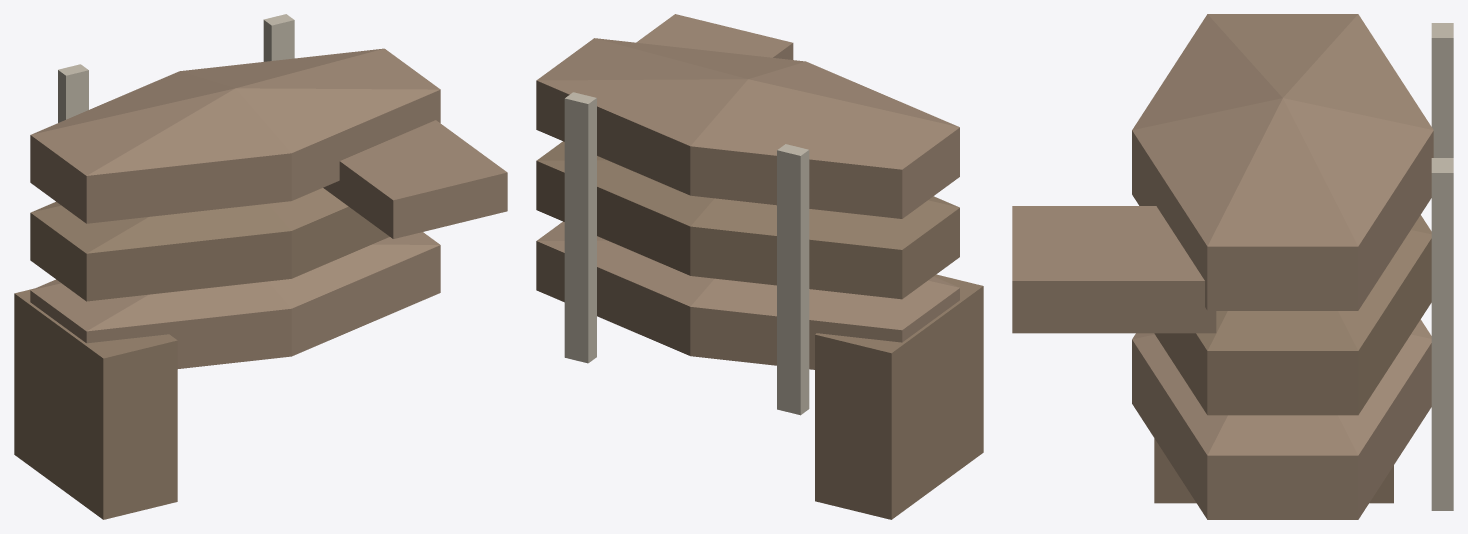
The model's file is hide-bundle.glb.
3 views of the same model, side by side, from view 1: azimuth 30°, elevation 25°; view 2: azimuth 150°, elevation 25°; view 3: azimuth 270°, elevation 25° (orthographic). The views are drawn at different scales.
Parts seen in each view (by area): view 1: hide_bundle; view 2: hide_bundle; view 3: hide_bundle.
Part boxes in pixels (x1,y1,x2,y2): hide_bundle: [14, 14, 507, 519]; hide_bundle: [536, 14, 983, 519]; hide_bundle: [1012, 14, 1453, 519].
Size of the model in its own units: 0.2083 by 0.1967 by 0.1658.
